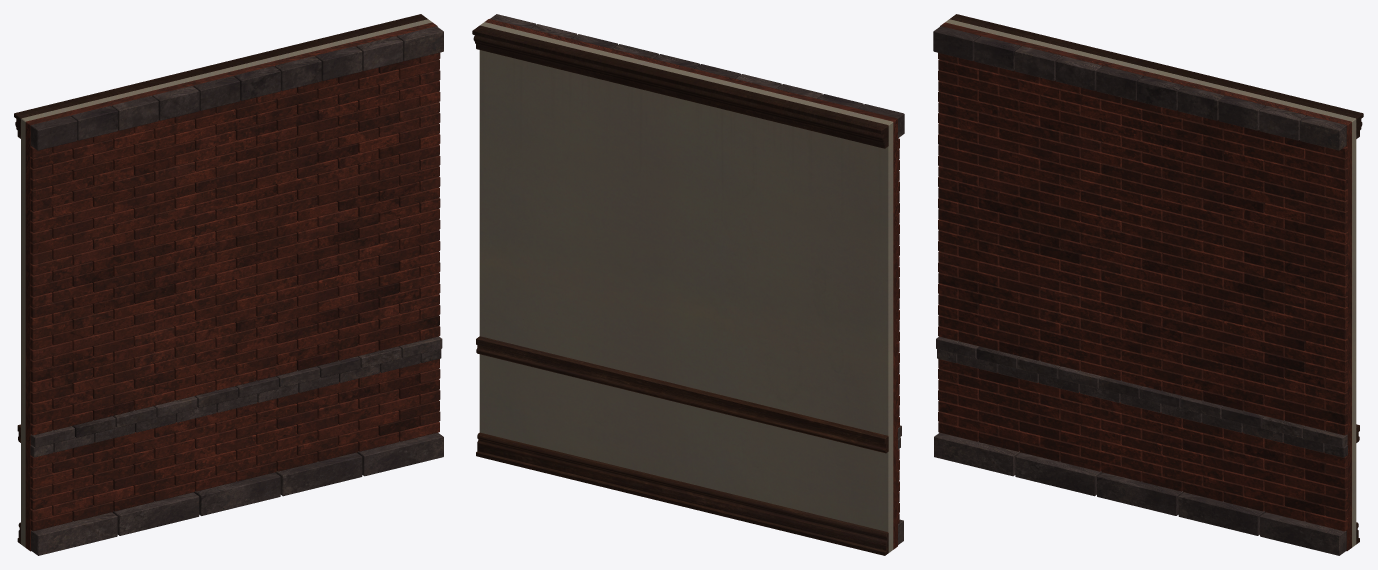
The model's file is SK1 WALL2.fbx.
The picture shows the model from 3 angles, left to right: view 1: azimuth 30°, elevation 25°; view 2: azimuth 150°, elevation 25°; view 3: azimuth 330°, elevation 25°; orthographic projection.
Parts seen in each view (by area): view 1: SK1 WALL2; view 2: SK1 WALL2; view 3: SK1 WALL2.
Boxes of the visible parts, x1,y1,x2,y2 form: SK1 WALL2: [14, 14, 443, 555]; SK1 WALL2: [472, 14, 904, 555]; SK1 WALL2: [933, 14, 1363, 555].
Size of the model in its own units: 400 by 400 by 39.93.
